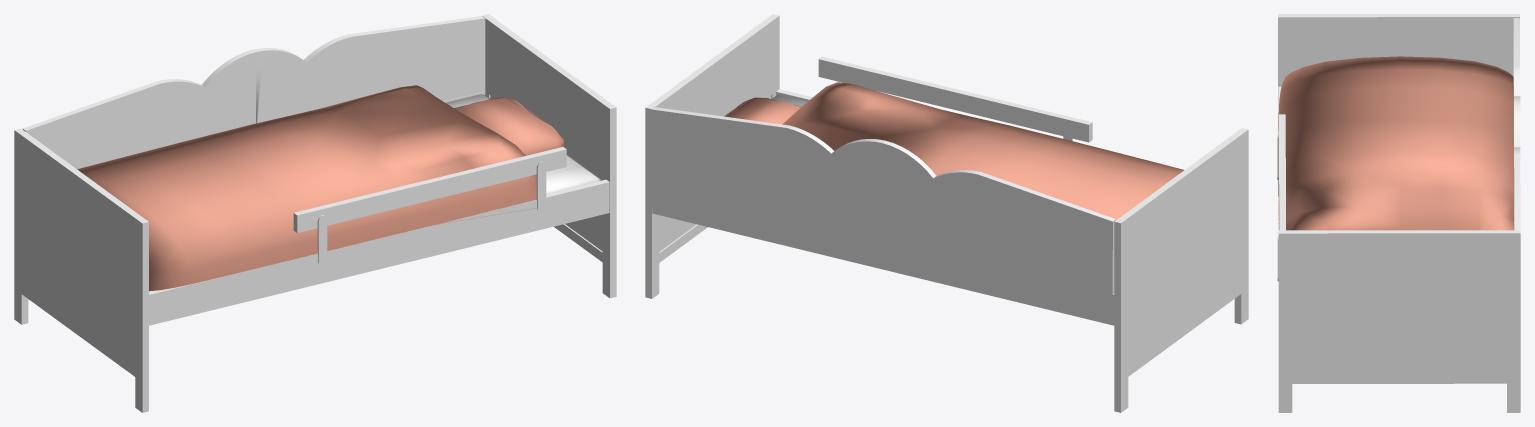
Rendered from IKEA-Bed_Frame_and_Guard_Rail-3D.obj.
3 views of the same model, side by side, from view 1: azimuth 30°, elevation 25°; view 2: azimuth 150°, elevation 25°; view 3: azimuth 270°, elevation 25° (orthographic). The views are drawn at different scales.
Parts seen in each view (by area): view 1: Rectangle0, Object03, Object02, Object01; view 2: Rectangle0, Object03, Object02; view 3: Rectangle0, Object03.
Part boxes in pixels (x1=…): Rectangle0: x1=14, y1=14, x2=616, y2=412; Object03: x1=77, y1=85, x2=536, y2=291; Object02: x1=454, y1=97, x2=563, y2=155; Object01: x1=446, y1=94, x2=601, y2=193; Rectangle0: x1=645, y1=14, x2=1248, y2=412; Object03: x1=782, y1=82, x2=1183, y2=219; Object02: x1=724, y1=97, x2=801, y2=124; Rectangle0: x1=1277, y1=14, x2=1520, y2=412; Object03: x1=1278, y1=56, x2=1514, y2=230.
Bounding box in the file's own units: 4198 × 1787 × 1968.
